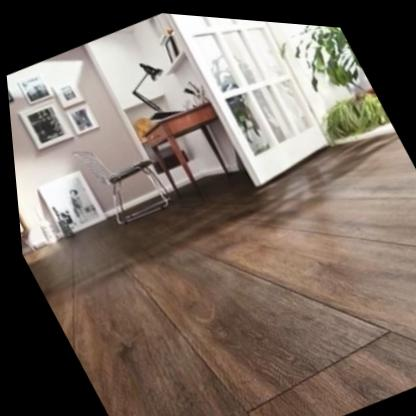Wooden floor: (19, 119, 416, 416)
